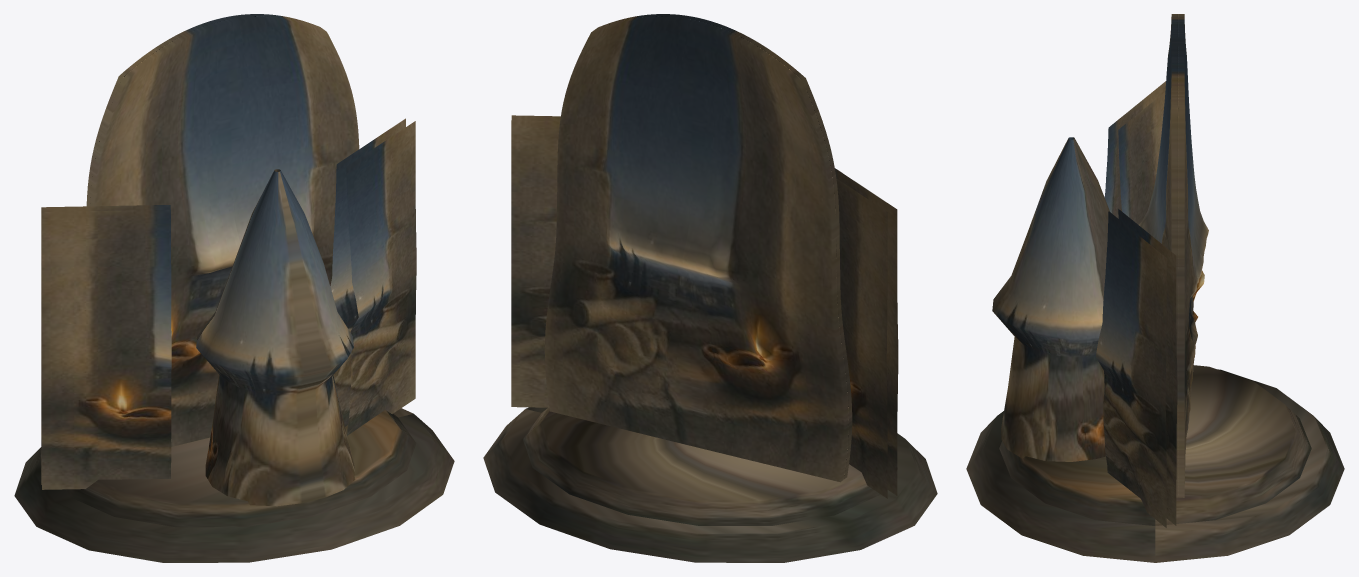
Rendered from a-living-hope-27.glb.
3 views of the same model, side by side, from view 1: azimuth 30°, elevation 25°; view 2: azimuth 150°, elevation 25°; view 3: azimuth 270°, elevation 25° (orthographic). The views are drawn at different scales.
Parts seen in each view (by area): view 1: PaintingSculptureMonument; view 2: PaintingSculptureMonument; view 3: PaintingSculptureMonument.
Part boxes in pixels (bbox=[...]): PaintingSculptureMonument: bbox=[14, 14, 454, 562]; PaintingSculptureMonument: bbox=[483, 14, 937, 562]; PaintingSculptureMonument: bbox=[966, 14, 1344, 562].
Bounding box in the file's own units: 2.76 × 2.99 × 2.35.
1 material, 1 textured.
